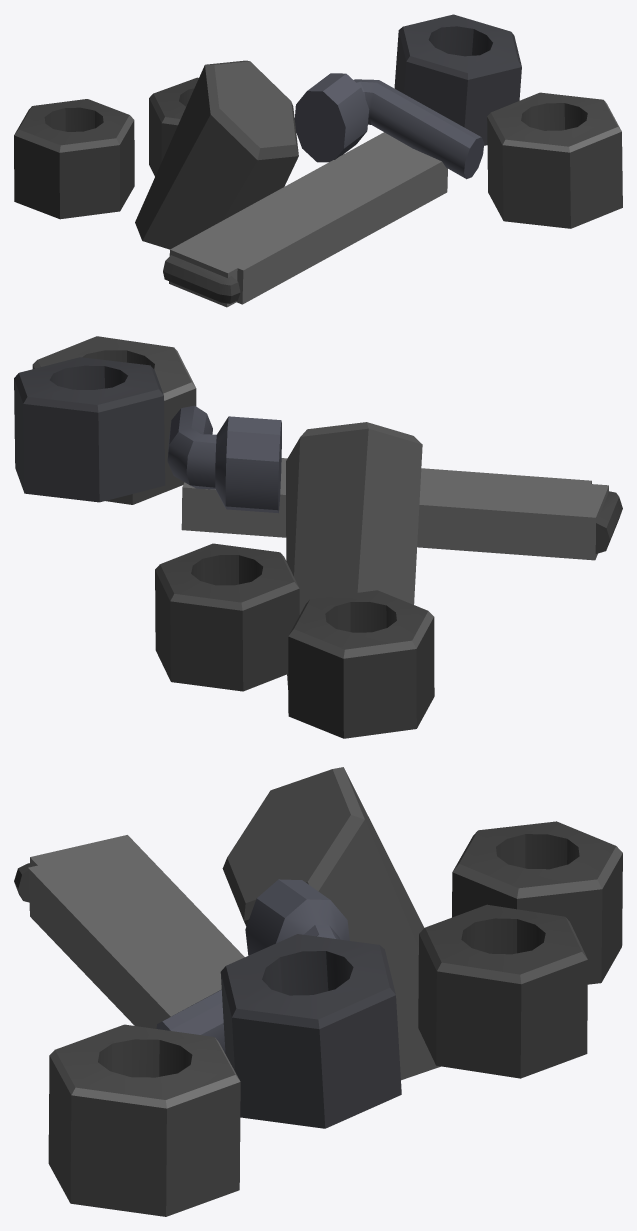
File: scrap_3.fbx
3 renders of one model, top to bottom at view 1: azimuth 30°, elevation 25°; view 2: azimuth 150°, elevation 25°; view 3: azimuth 270°, elevation 25°, orthographic. The views are drawn at different scales.
Visible parts, largest first — view 1: scrap_high; view 2: scrap_high; view 3: scrap_high.
Boxes of the visible parts, left/top/right/bottom form: scrap_high: left=14, top=14, right=622, bottom=307; scrap_high: left=14, top=336, right=622, bottom=738; scrap_high: left=14, top=767, right=622, bottom=1216.
Bounding box in the file's own units: 225 × 93.34 × 181.
